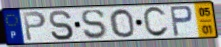C: (141, 6, 170, 39)
O: (108, 8, 137, 39)
P: (168, 5, 195, 38), (21, 10, 48, 43)
S: (47, 9, 75, 42), (80, 8, 108, 40)
